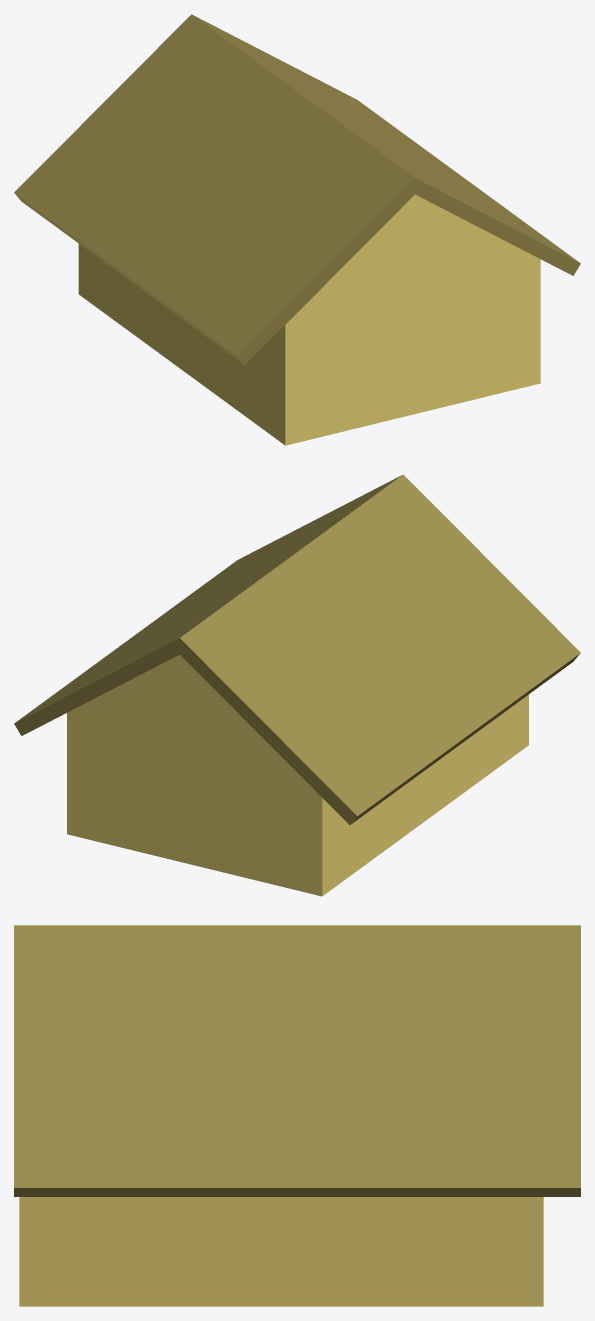
Rendered from result.glb.
3 renders of one model, top to bottom at view 1: azimuth 30°, elevation 25°; view 2: azimuth 150°, elevation 25°; view 3: azimuth 270°, elevation 25°, orthographic. The views are drawn at different scales.
Visible parts, largest first — view 1: f310d338-2c61-4e76-9d2f-64bd10e70215__undefined (×2), 0bd812b8-7cff-463b-8f51-ef9d930910bd__undefined; view 2: f310d338-2c61-4e76-9d2f-64bd10e70215__undefined (×2), 0bd812b8-7cff-463b-8f51-ef9d930910bd__undefined; view 3: f310d338-2c61-4e76-9d2f-64bd10e70215__undefined, 0bd812b8-7cff-463b-8f51-ef9d930910bd__undefined.
Boxes of the visible parts, x1,y1,x2,y2 form: f310d338-2c61-4e76-9d2f-64bd10e70215__undefined (×2): (14, 14, 580, 364); 0bd812b8-7cff-463b-8f51-ef9d930910bd__undefined: (78, 194, 540, 445); f310d338-2c61-4e76-9d2f-64bd10e70215__undefined (×2): (14, 474, 580, 824); 0bd812b8-7cff-463b-8f51-ef9d930910bd__undefined: (67, 654, 528, 896); f310d338-2c61-4e76-9d2f-64bd10e70215__undefined: (14, 925, 580, 1196); 0bd812b8-7cff-463b-8f51-ef9d930910bd__undefined: (19, 1197, 543, 1306).
Bounding box in the file's own units: 671 × 445 × 757.
